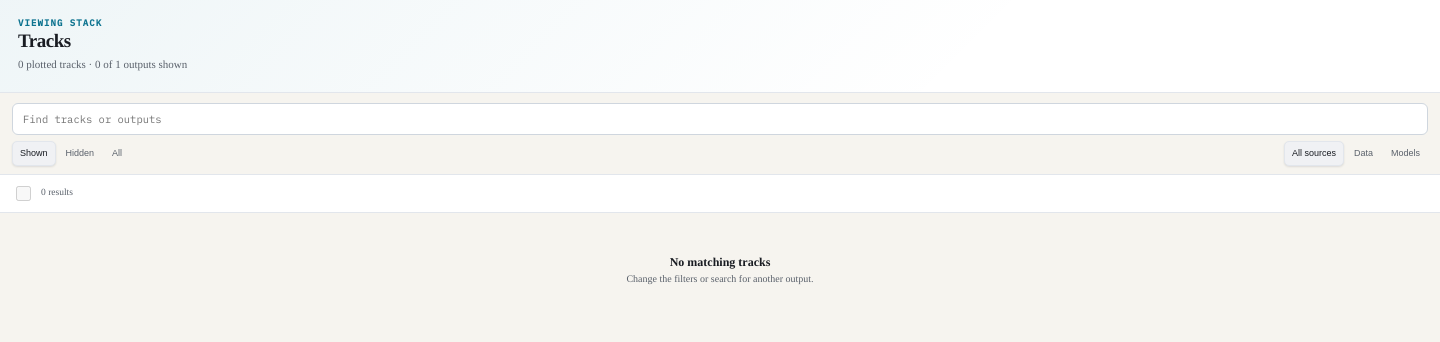
TrackManagerPanel › searches hidden outputs and expands their model collection
Click the button "All": click(117, 153) [104,141,130,166]
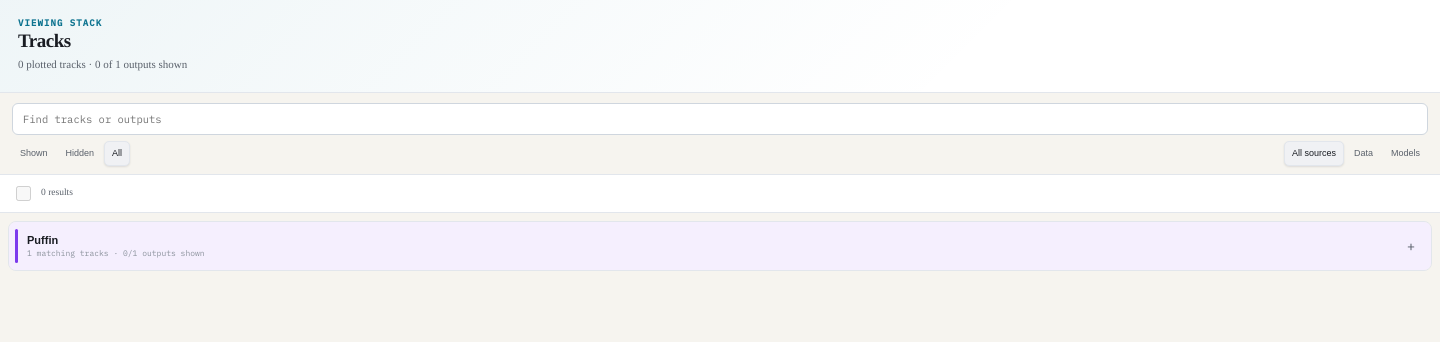
In the field with placeholder "Find tracks or outputs": (720, 119) [12,103,1428,135], type "YY1"
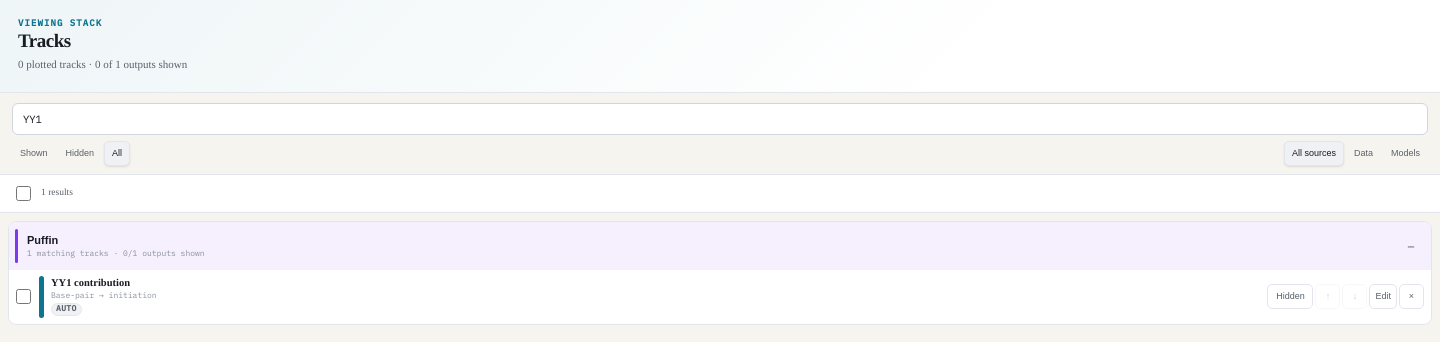
Now the text "YY1 contribution" is shown, box [51,278,130,289]
